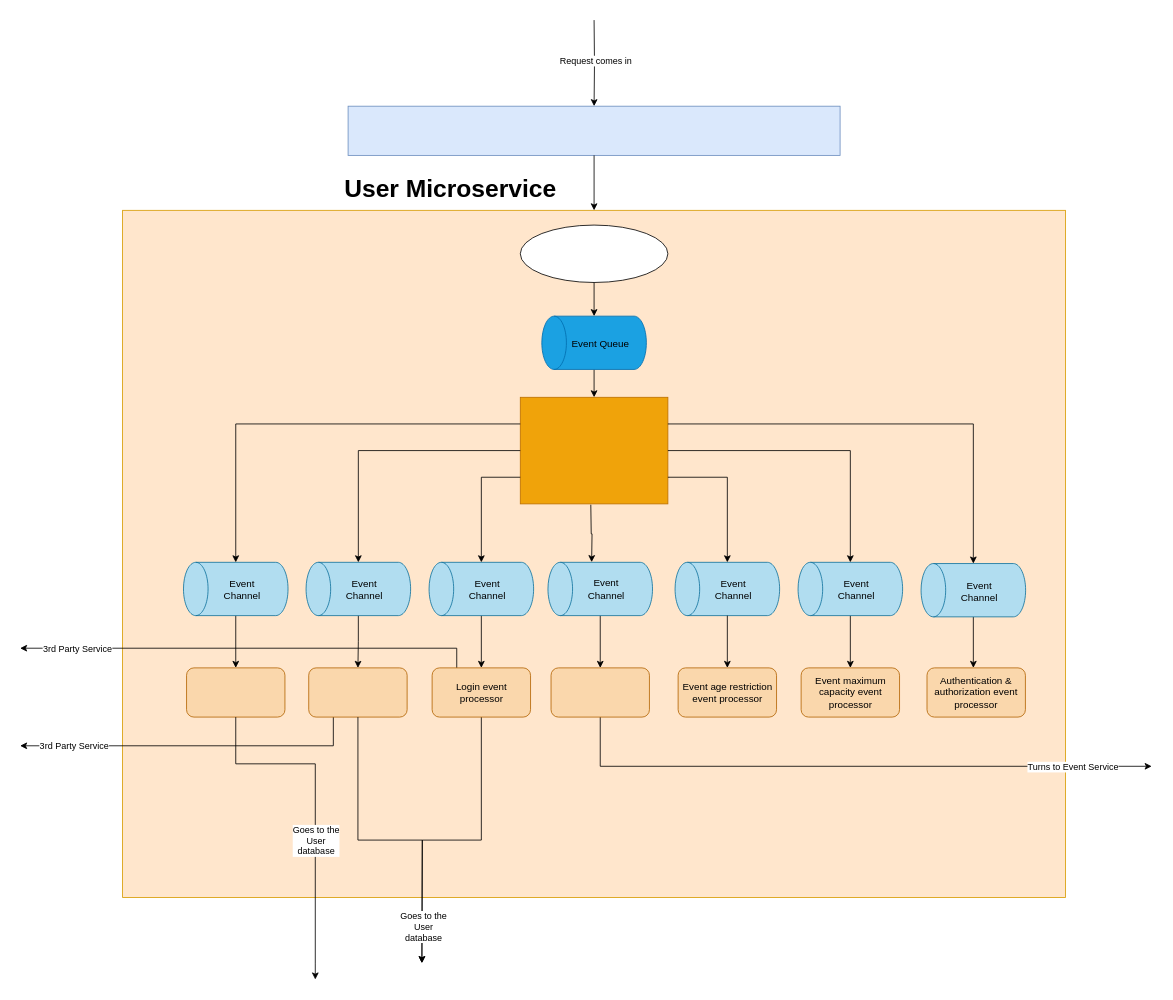
This 1173x1000 diagram has some shape labels left out. Here are the shapes that lost their labels. From the top down, the centre of each, then its label:
At (593,130): "API".
At (593,253): "Initial event".
At (593,450): "Event Mediator".
At (235,692): "User RUD event processor".
At (357,692): "Sign up event processor".
At (599,692): "Event registration event processor".
